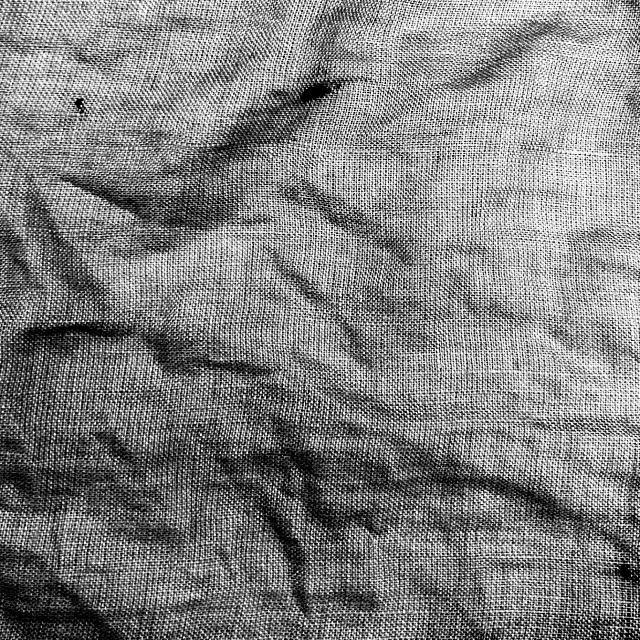Color_defect: (289, 78, 336, 106), (72, 96, 100, 115)
